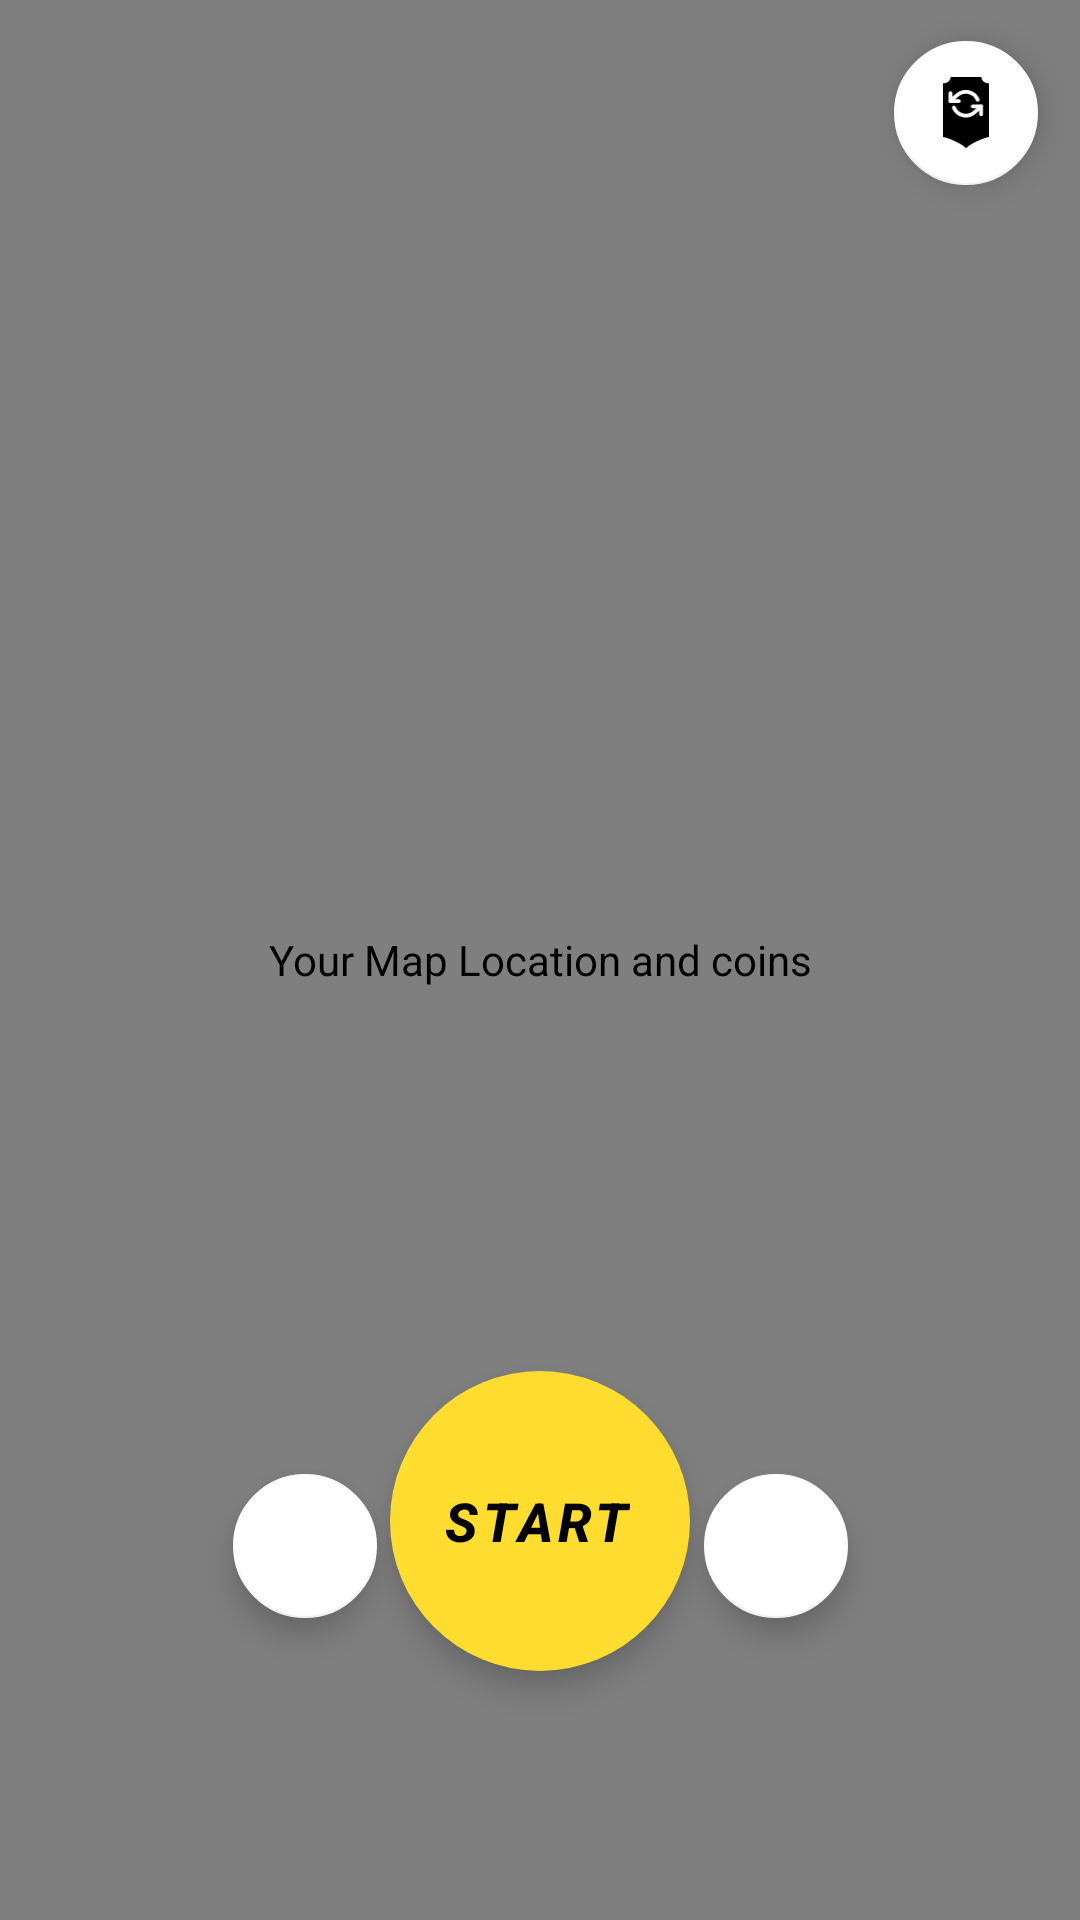

Named icons in this screenshot (1080*1920) and their bounding boxes, detection(x1, y1, x2, y2):
reload ticket location: detection(894, 41, 1038, 185)
